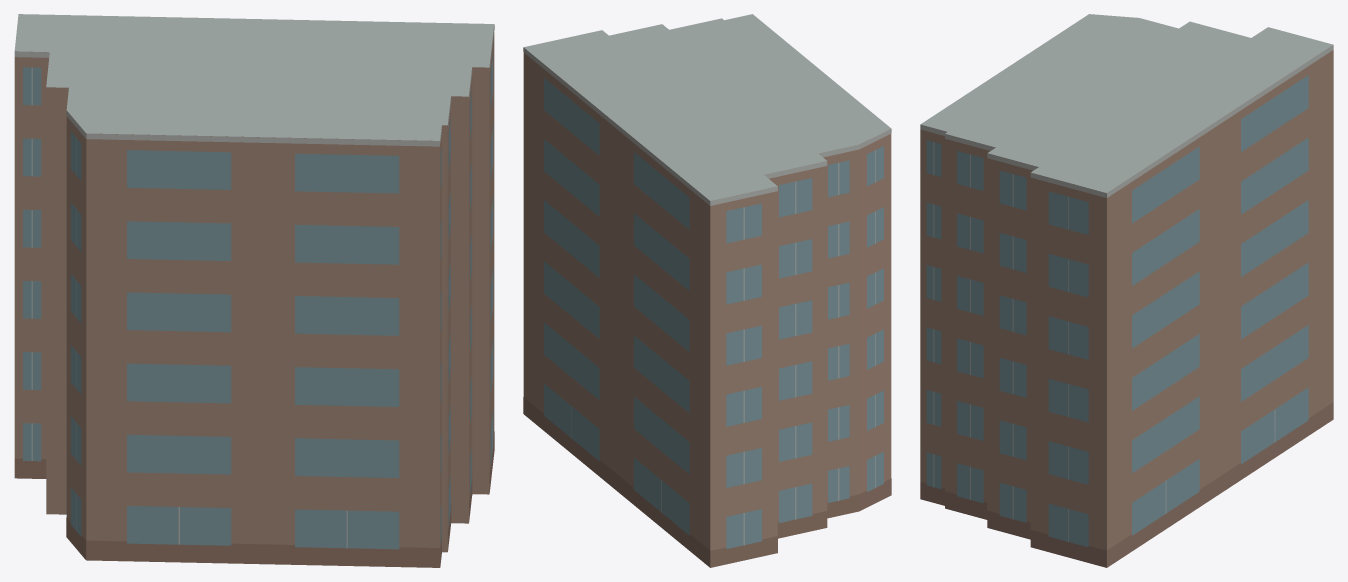
File: survey-upis-33019374.glb
3 renders of one model, left to right at view 1: azimuth 30°, elevation 25°; view 2: azimuth 150°, elevation 25°; view 3: azimuth 270°, elevation 25°, orthographic. The views are drawn at different scales.
Parts seen in each view (by area): view 1: survey-upis-33019374.tmp; view 2: survey-upis-33019374.tmp; view 3: survey-upis-33019374.tmp.
Boxes of the visible parts, box(x1,y1,x2,y2) form: survey-upis-33019374.tmp: box(14, 14, 494, 567); survey-upis-33019374.tmp: box(523, 14, 891, 567); survey-upis-33019374.tmp: box(920, 14, 1333, 567).
Bounding box in the file's own units: 18.77 × 18.3 × 18.3.
